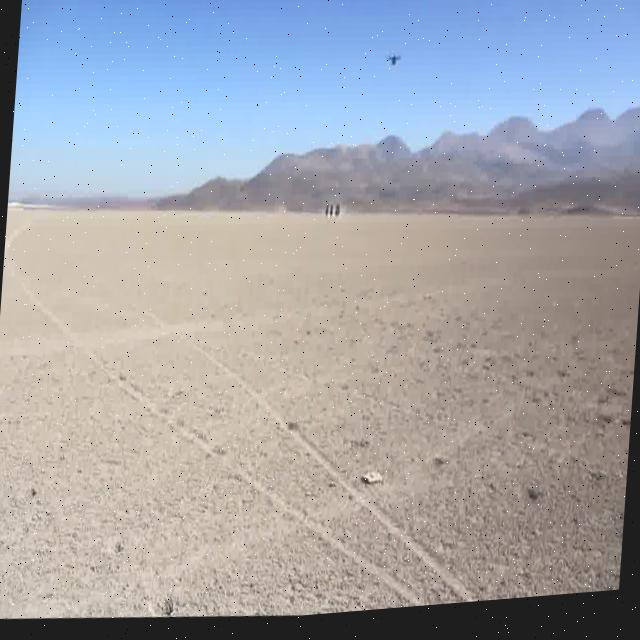drone: (384, 54, 402, 77)
